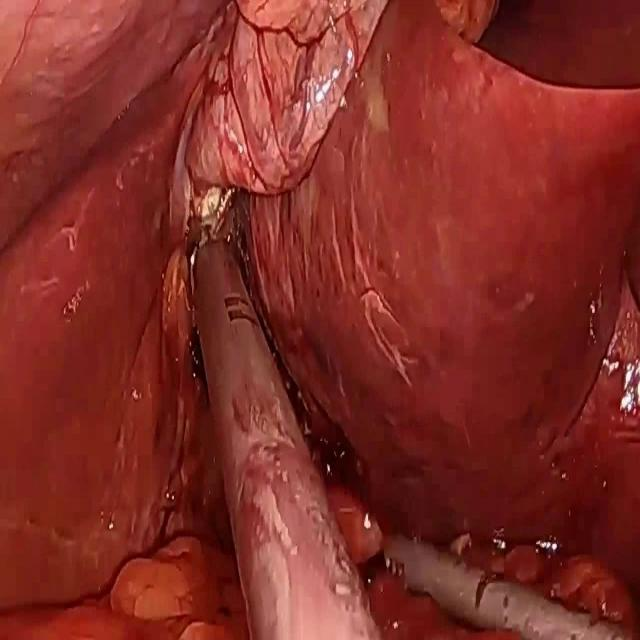surgical-tool: (192, 239, 382, 639), (382, 532, 640, 639)
